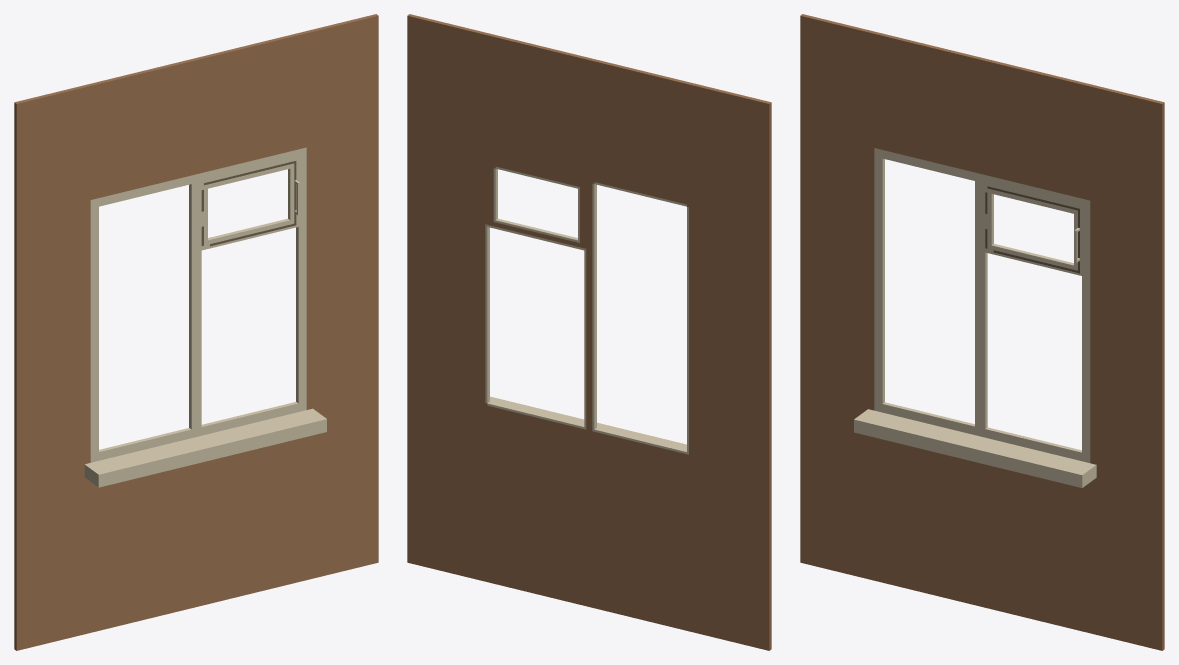
Rendered from window.obj.
3 views of the same model, side by side, from view 1: azimuth 30°, elevation 25°; view 2: azimuth 150°, elevation 25°; view 3: azimuth 330°, elevation 25° (orthographic).
Size of the model in its own units: 17.6 by 25.4 by 1.4.
Materials: 1 (1 with a texture image).
